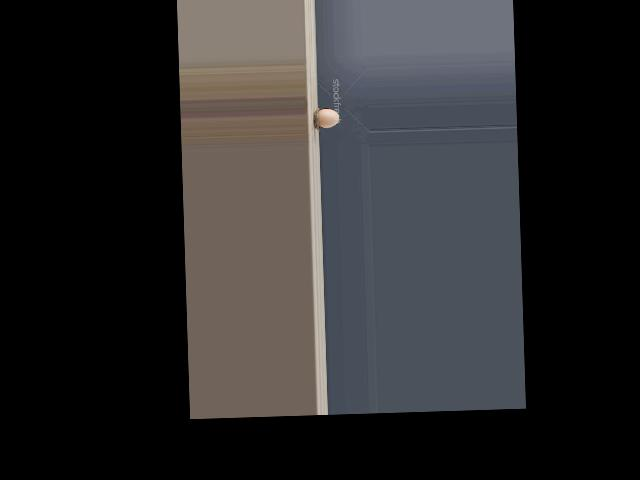egg: (317, 109, 339, 128)
